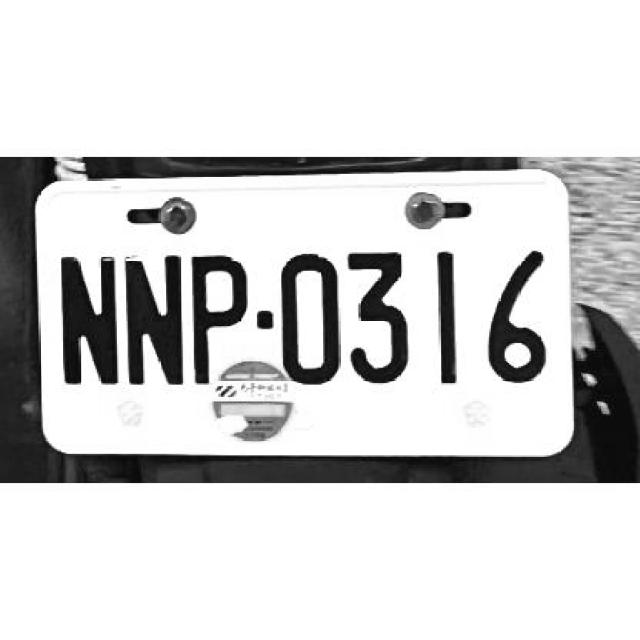-: (255, 306, 272, 329)
0: (279, 246, 343, 383)
1: (434, 246, 460, 385)
3: (344, 246, 410, 386)
6: (486, 243, 549, 383)
N: (120, 251, 186, 386), (54, 249, 118, 385)
P: (186, 249, 249, 385)
